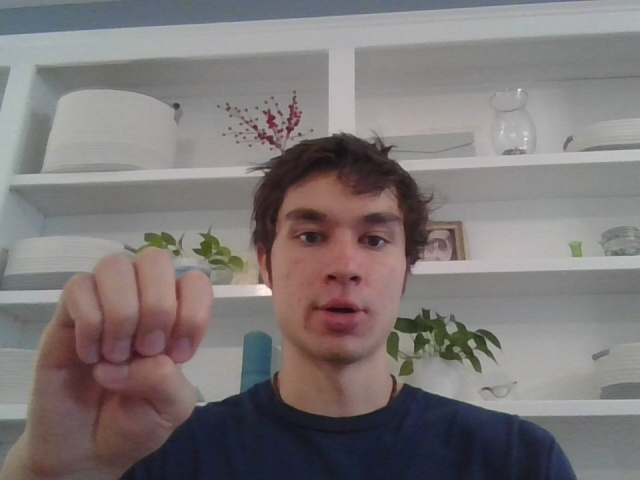e: (29, 247, 214, 447)
